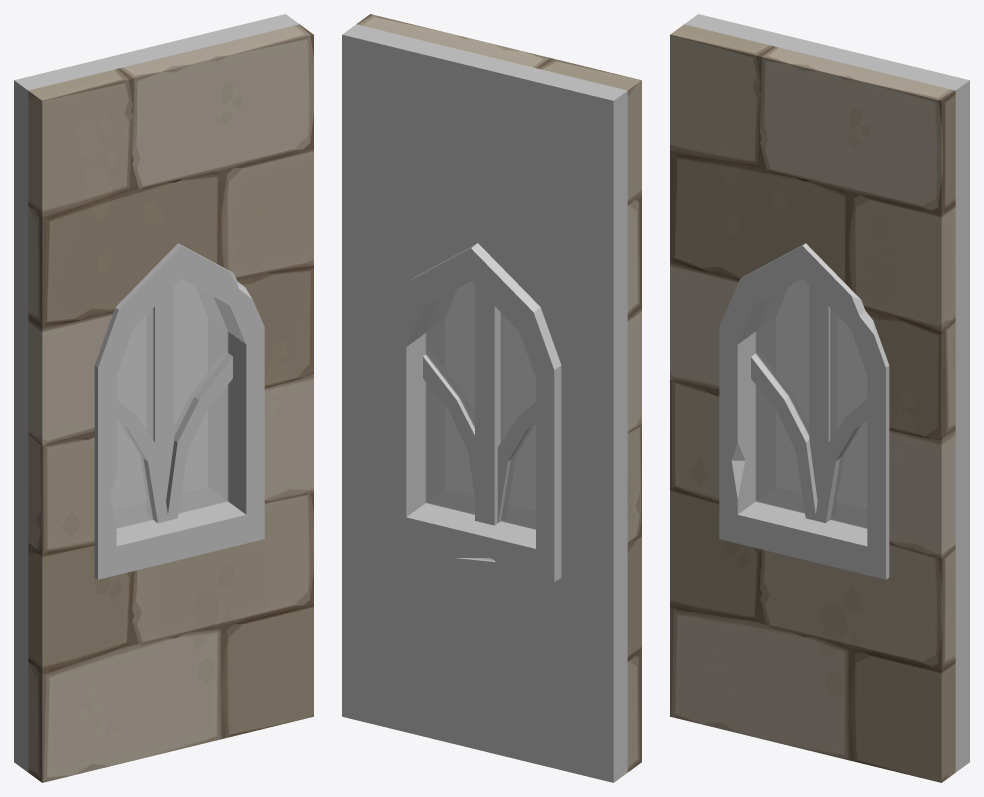
File: SM_Bld_Wall_Window_Half_01.fbx
3 renders of one model, left to right at view 1: azimuth 30°, elevation 25°; view 2: azimuth 150°, elevation 25°; view 3: azimuth 330°, elevation 25°, orthographic.
Parts seen in each view (by area): view 1: SM_Bld_Wall_Window_Half_01, SM_Bld_Wall_Window_Half_01_Glass; view 2: SM_Bld_Wall_Window_Half_01, SM_Bld_Wall_Window_Half_01_Glass; view 3: SM_Bld_Wall_Window_Half_01, SM_Bld_Wall_Window_Half_01_Glass.
Part boxes in pixels (x1,y1,x2,y2): SM_Bld_Wall_Window_Half_01: [14, 14, 313, 782]; SM_Bld_Wall_Window_Half_01_Glass: [110, 278, 228, 528]; SM_Bld_Wall_Window_Half_01: [342, 14, 641, 782]; SM_Bld_Wall_Window_Half_01_Glass: [425, 281, 535, 529]; SM_Bld_Wall_Window_Half_01: [670, 14, 969, 782]; SM_Bld_Wall_Window_Half_01_Glass: [755, 278, 867, 528].
Size of the model in its own units: 125 by 300 by 30.61.
